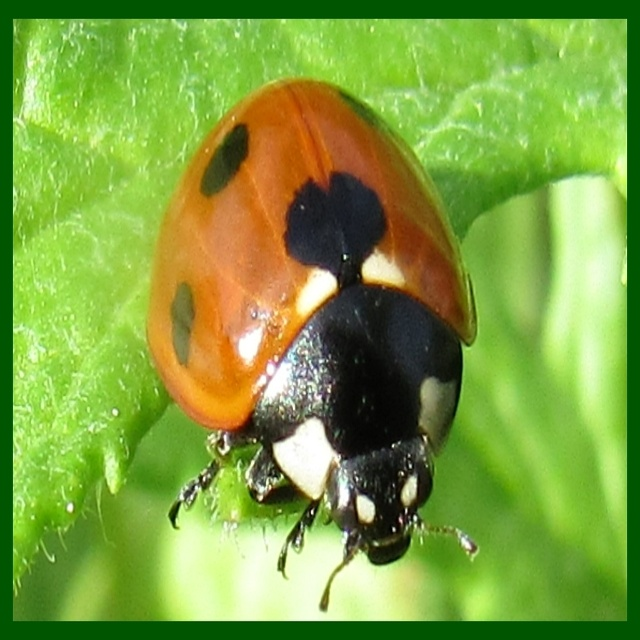Ladybug: (145, 77, 481, 610)
